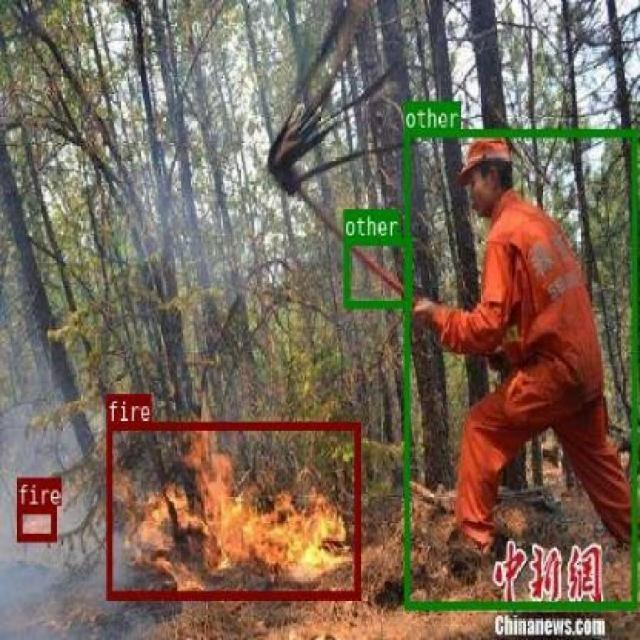fire: (106, 422, 359, 599), (16, 505, 56, 541)
